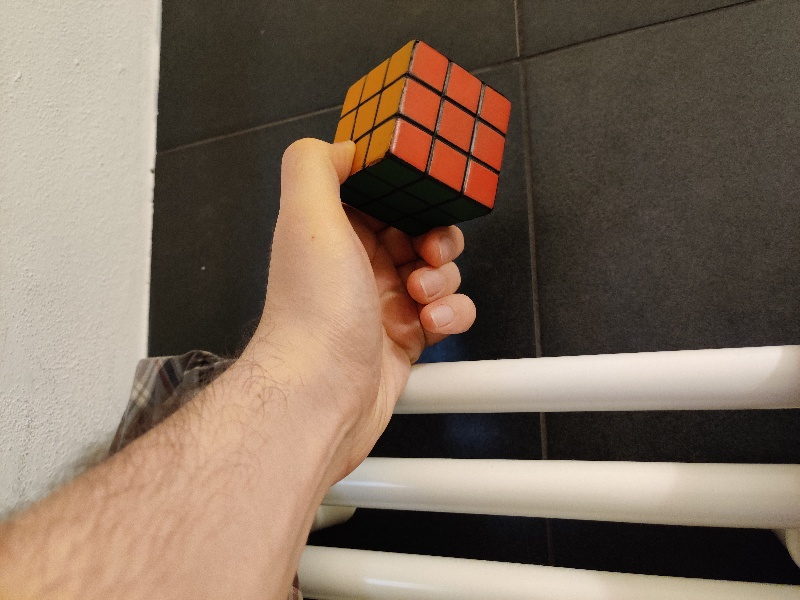rubik: (329, 39, 512, 240)
